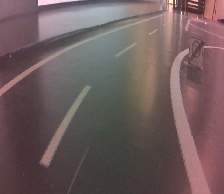zone 30 stop sign: (189, 35, 205, 69)
